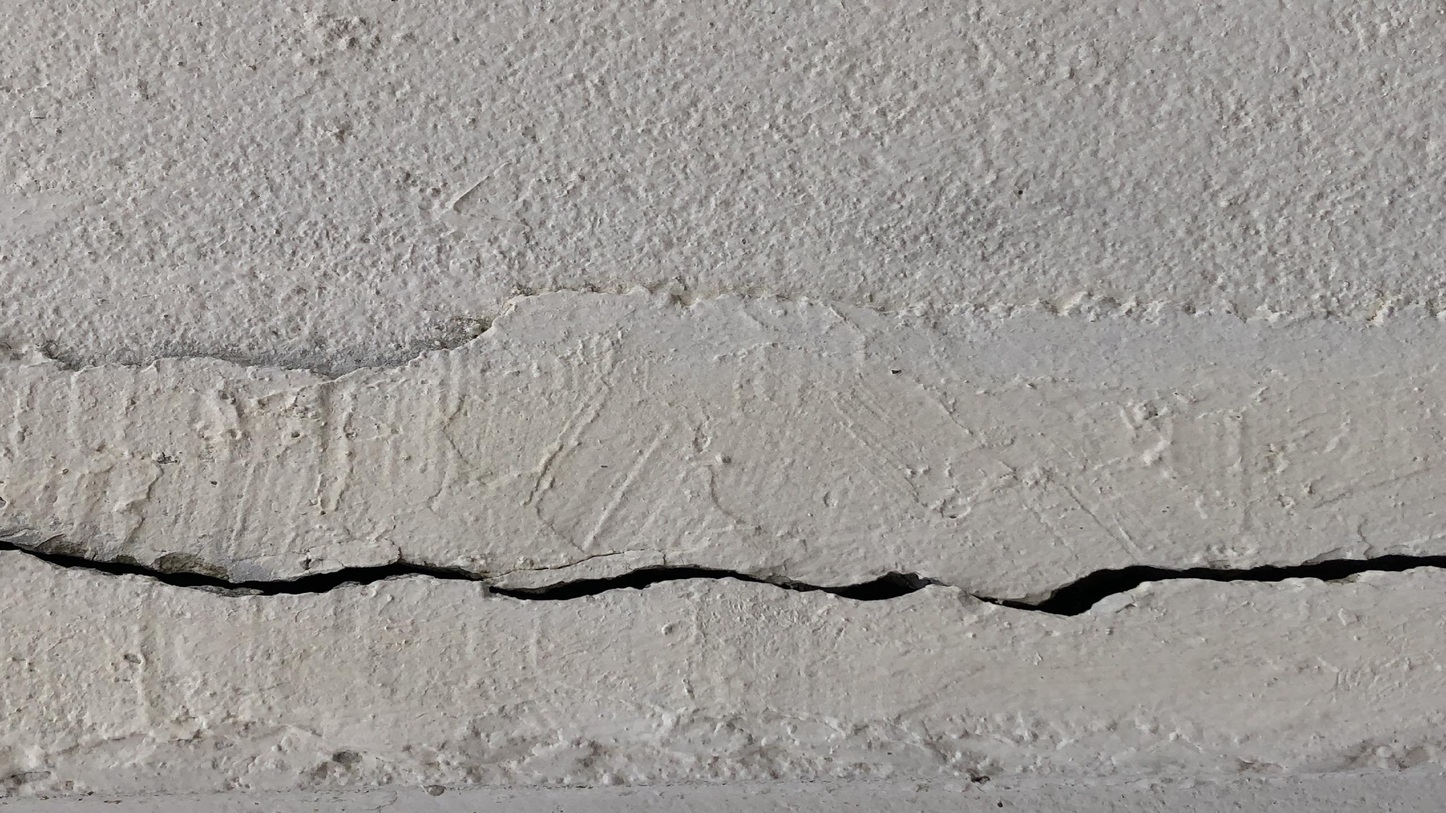crack: (0, 529, 1445, 625)
